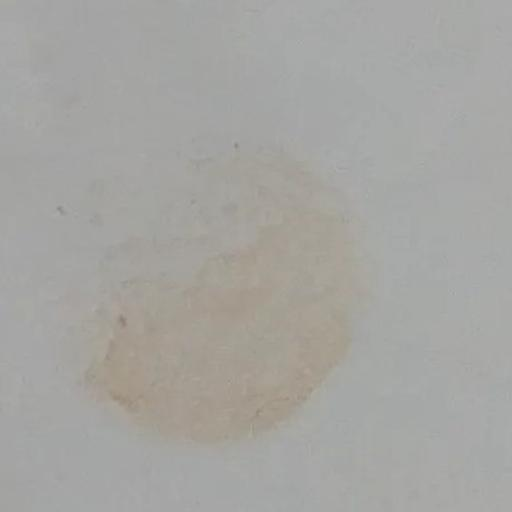stain: (55, 115, 381, 466)
